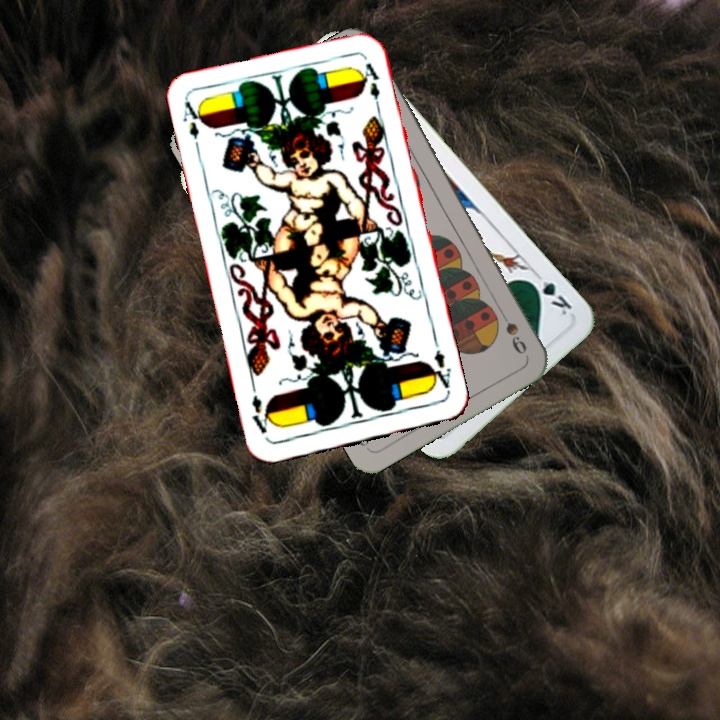EA: (178, 97, 208, 155), (425, 345, 454, 396)
GK: (525, 268, 575, 318)
S9: (494, 303, 530, 357)
